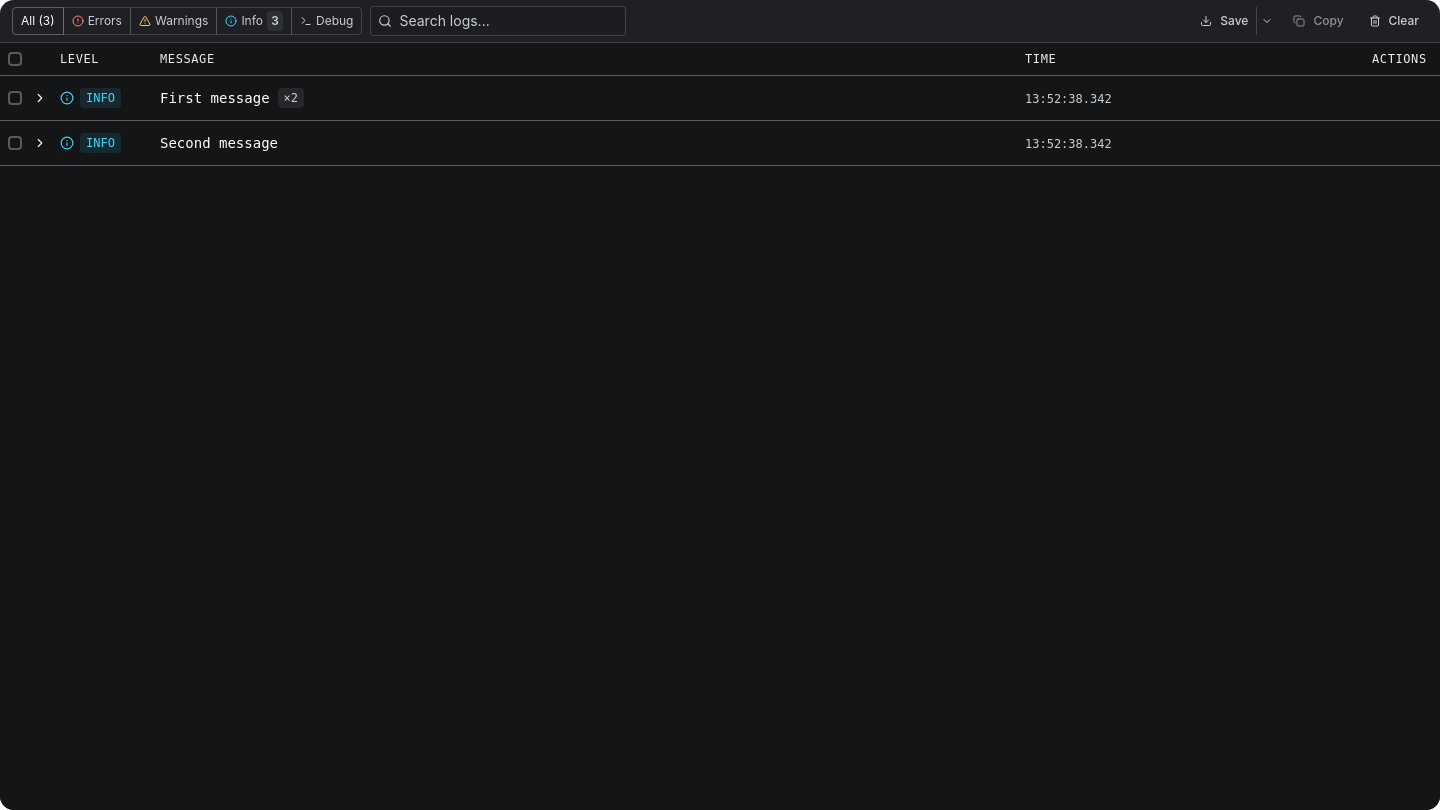
Test: ConsolePanel (Migrated to VirtualDataGrid) › maintains search filtering
Expected: the text "First message" is shown, [160,88,270,108]
# Search for "second"
Type "second" into the field with placeholder "Search logs..." at {"x": 498, "y": 21}, box [370,6,626,36]
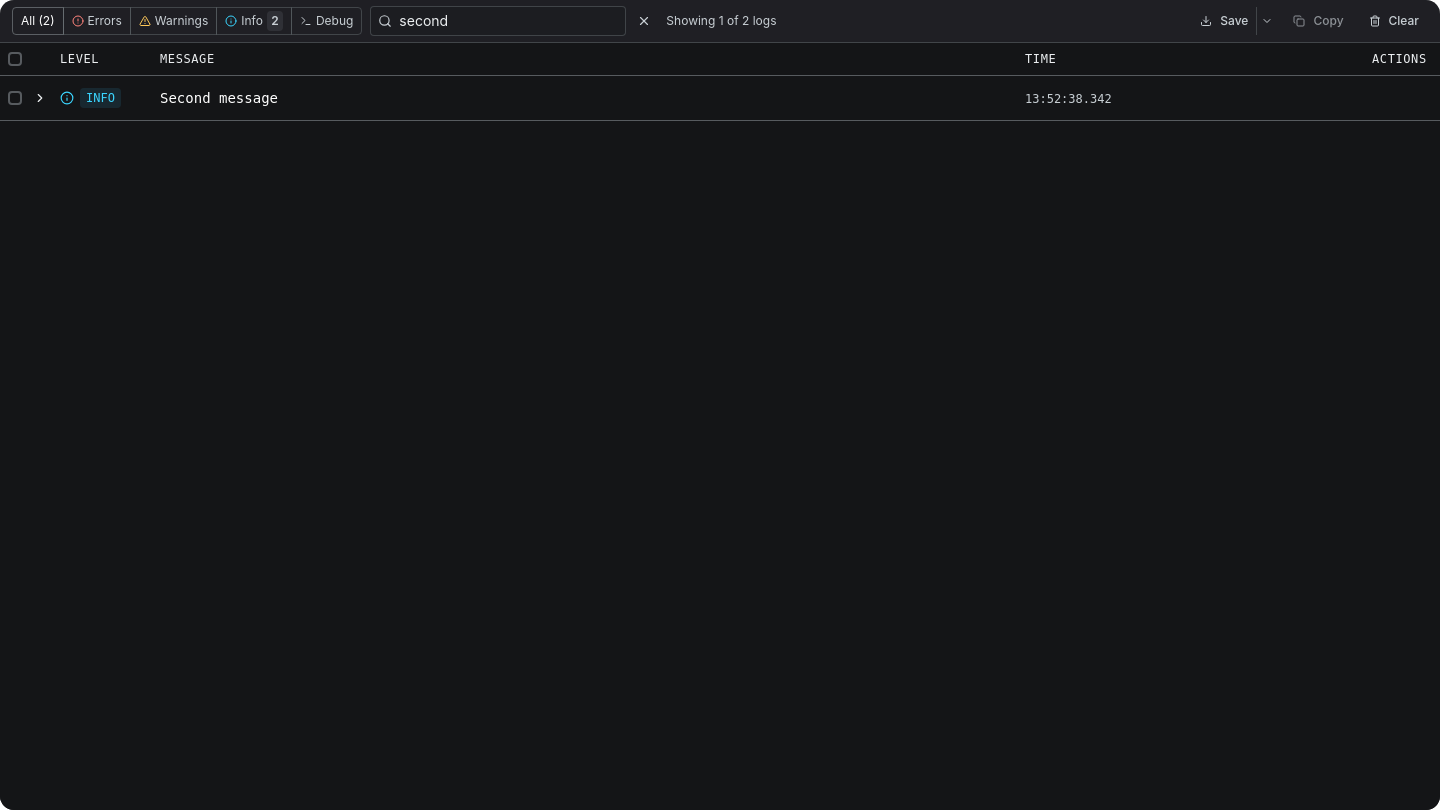
Expected: the text "Second message" is shown, [160,88,278,108]
Now the text "First message" is gone
